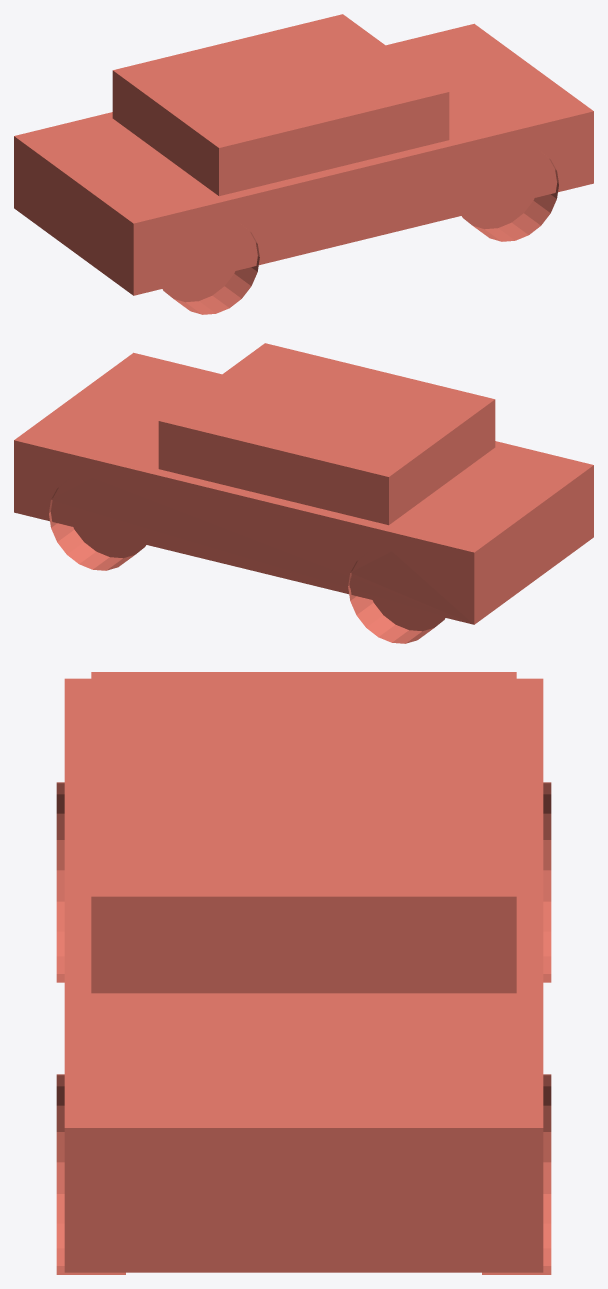
The model's file is car_welded.glb.
3 views of the same model, one above another, from view 1: azimuth 30°, elevation 25°; view 2: azimuth 150°, elevation 25°; view 3: azimuth 270°, elevation 25° (orthographic). The views are drawn at different scales.
Visible parts, largest first — view 1: Car; view 2: Car; view 3: Car.
Part boxes in pixels (x1,y1,x2,y2): Car: (14,14,593,314); Car: (14,343,593,643); Car: (56,672,551,1274).
Bounding box in the file's own units: 4 × 1.3 × 1.86.
